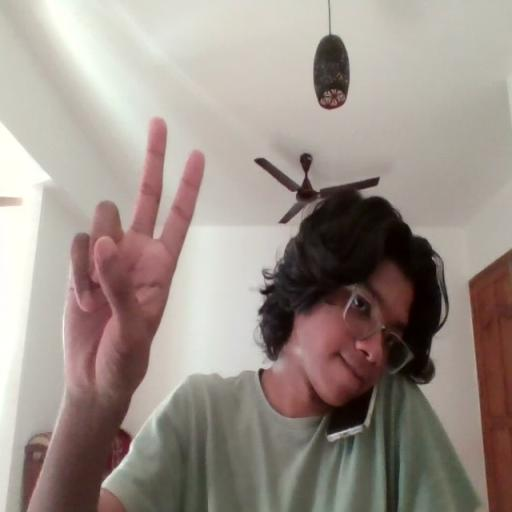scissor: (62, 117, 210, 402)
